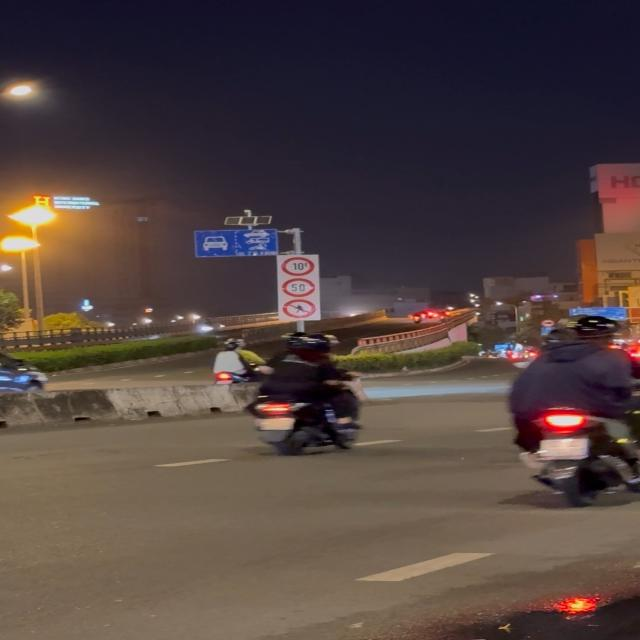Bien bao cam nguoi di bo: (283, 299, 318, 318)
Bien bao toc do toi da cho phep: (281, 276, 316, 299)
